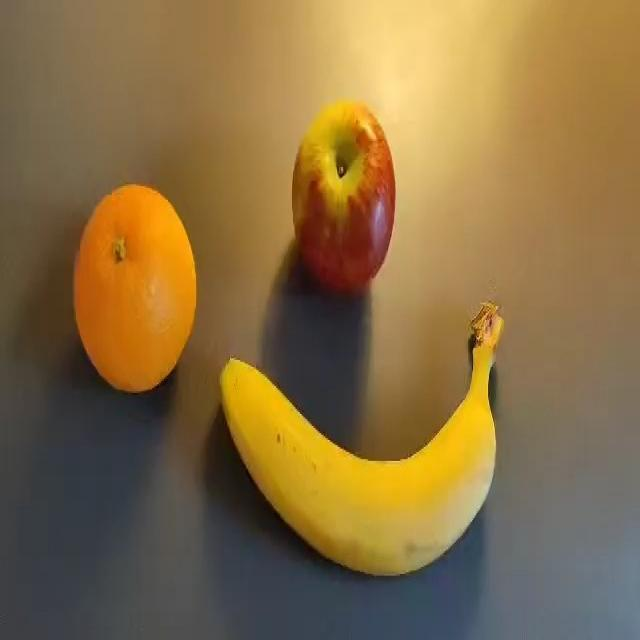Apple: (291, 99, 396, 292)
Banana: (218, 300, 504, 577)
Orange: (72, 182, 197, 393)
